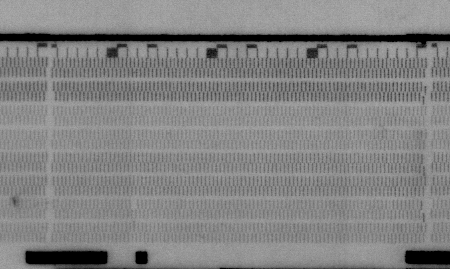Broken hole: (128, 198, 141, 209)
Oblique printing: (417, 82, 430, 105), (416, 199, 427, 211), (417, 164, 428, 176)
